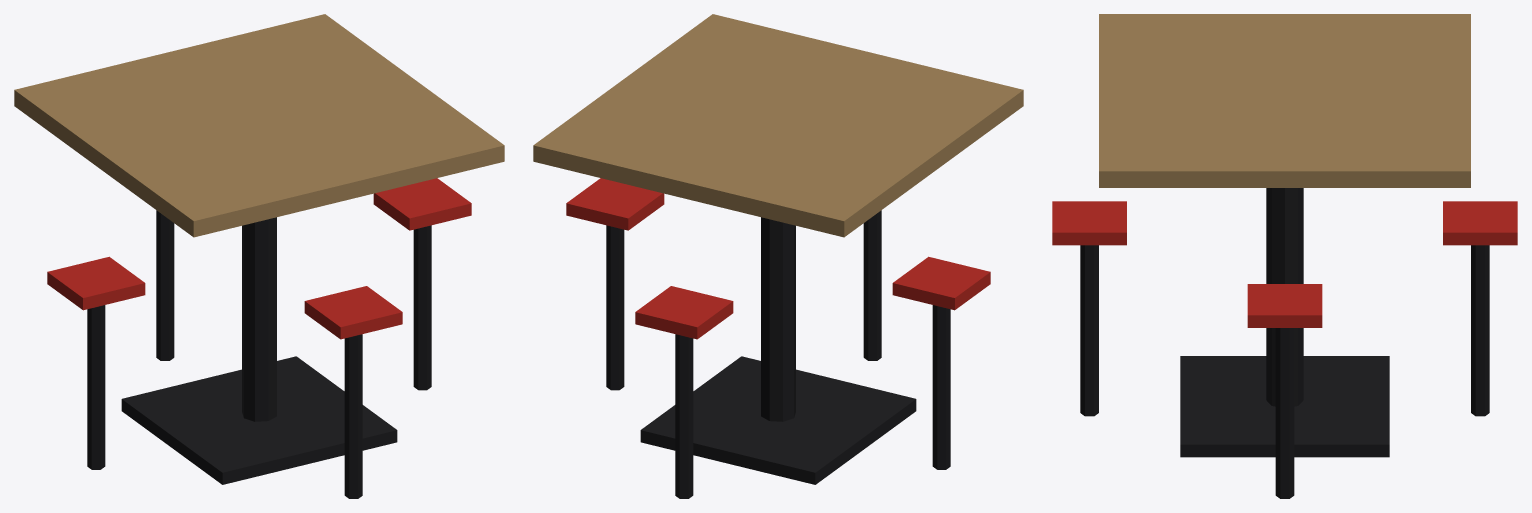
Rendered from cafe table.glb.
The picture shows the model from 3 angles, left to right: view 1: azimuth 30°, elevation 25°; view 2: azimuth 150°, elevation 25°; view 3: azimuth 270°, elevation 25°; orthographic projection. The views are drawn at different scales.
Visible parts, largest first — view 1: cafe table; view 2: cafe table; view 3: cafe table.
Boxes of the visible parts, x1,y1,x2,y2 form: cafe table: [14, 14, 504, 498]; cafe table: [533, 14, 1023, 498]; cafe table: [1052, 14, 1517, 498].
Size of the model in its own units: 1 by 0.76 by 1.
